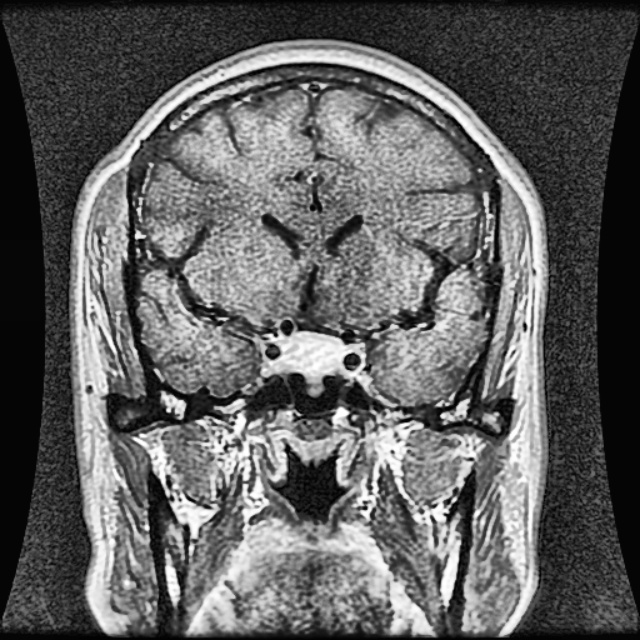Pituitary: (275, 332, 343, 389)
